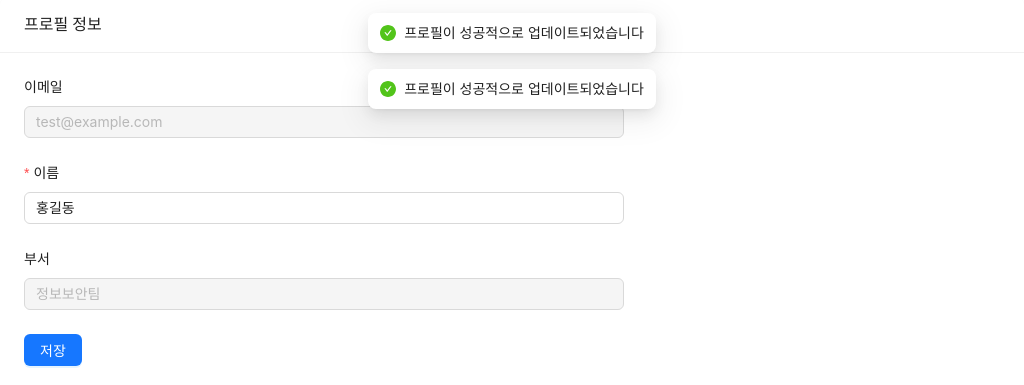
Test: ProfileSettings Component › 프로필 업데이트 실패 시 에러 메시지가 표시됨
Expected: the field showing "홍길동" is shown, [24, 192, 624, 224]
Click the button "저장" at (53, 350), box [24, 334, 82, 366]
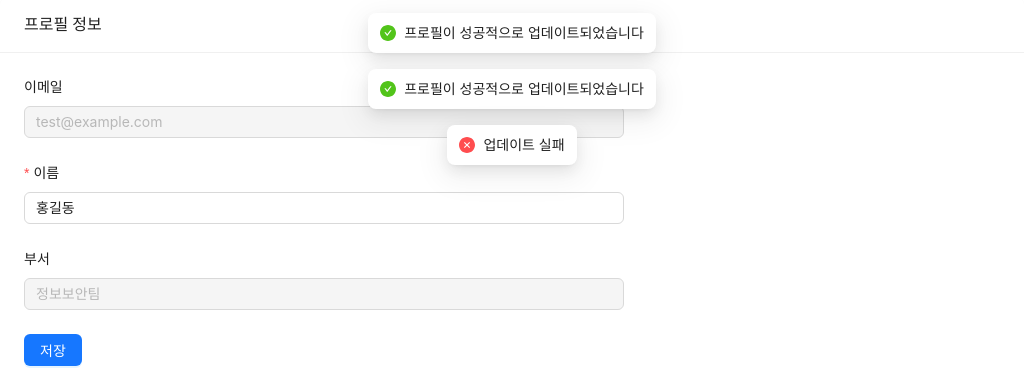
Expected: the text "업데이트 실패" is shown, [483, 134, 565, 156]
